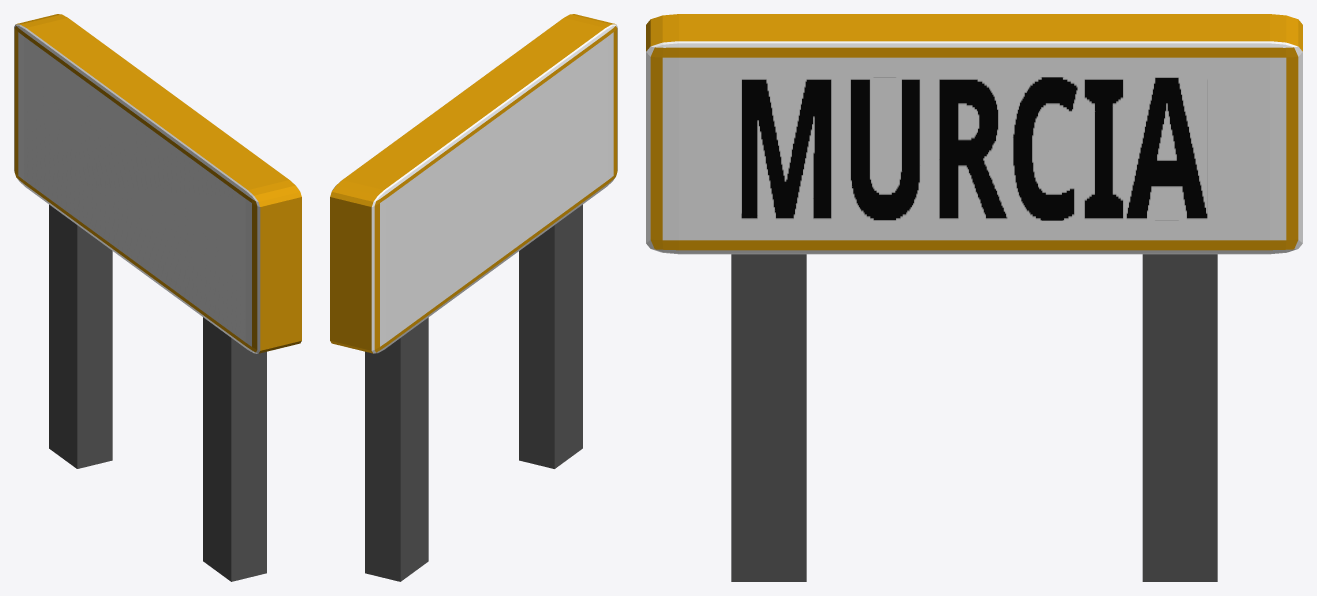
Rendered from CartelMurcia.fbx.
3 views of the same model, side by side, from view 1: azimuth 30°, elevation 25°; view 2: azimuth 150°, elevation 25°; view 3: azimuth 270°, elevation 25° (orthographic). The views are drawn at different scales.
Visible parts, largest first — view 1: Cube; view 2: Cube; view 3: Cube.
Boxes of the visible parts, x1,y1,x2,y2 form: Cube: [14, 14, 301, 581]; Cube: [330, 14, 617, 581]; Cube: [646, 14, 1302, 581].
Bounding box in the file's own units: 26.8 × 225 × 246.
